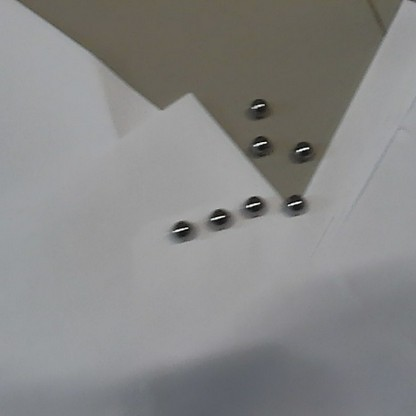ironball: (208, 206, 232, 230), (242, 194, 265, 218), (170, 218, 193, 242), (249, 134, 272, 155), (293, 138, 314, 161), (284, 193, 306, 214), (248, 96, 269, 117)
